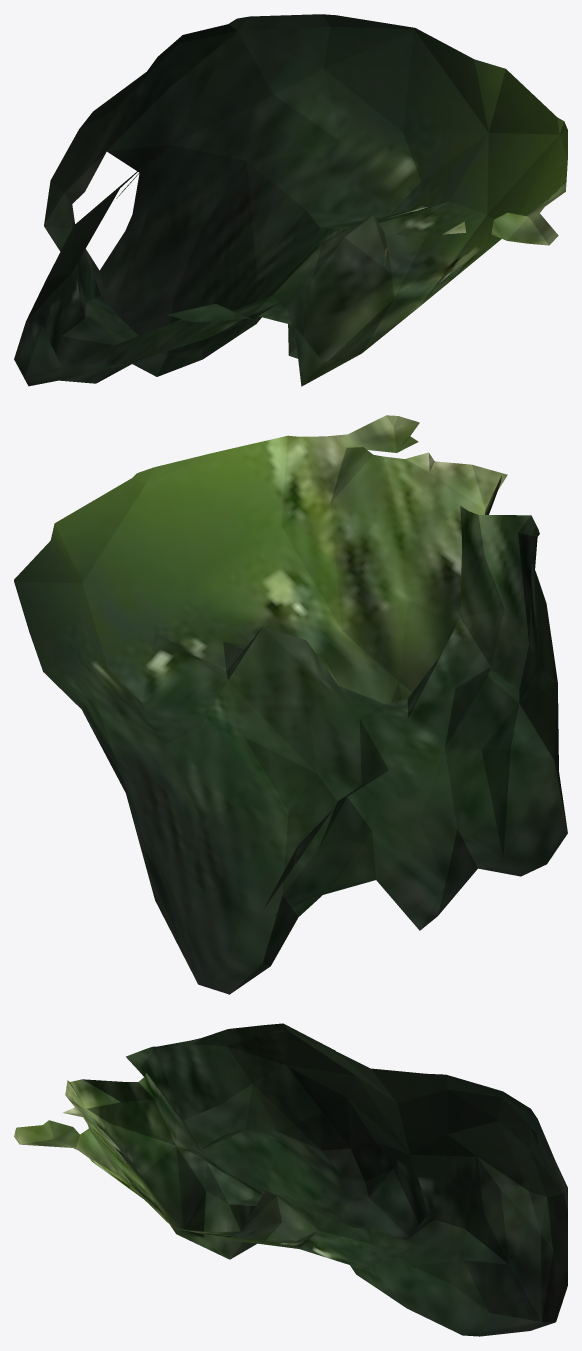
3 renders of one model, top to bottom at view 1: azimuth 30°, elevation 25°; view 2: azimuth 150°, elevation 25°; view 3: azimuth 270°, elevation 25°, orthographic. The views are drawn at different scales.
Bounding box in the file's own units: 9.32 × 5.49 × 10.84.
Materials: 1 (1 with a texture image).
